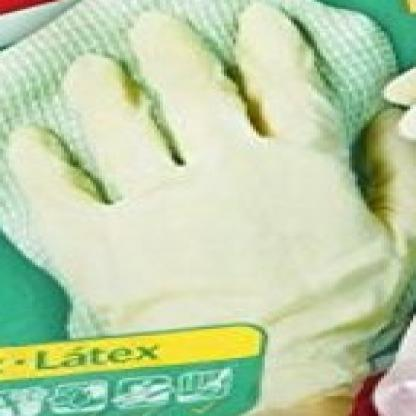with_gloves: (0, 6, 411, 414)
